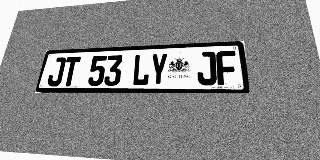3: (103, 55, 123, 86)
5: (87, 55, 107, 86)
F: (216, 50, 238, 85)
J: (197, 51, 217, 85), (46, 57, 67, 86)
L: (131, 54, 151, 86)
T: (61, 57, 81, 86)
Y: (149, 53, 168, 86)
